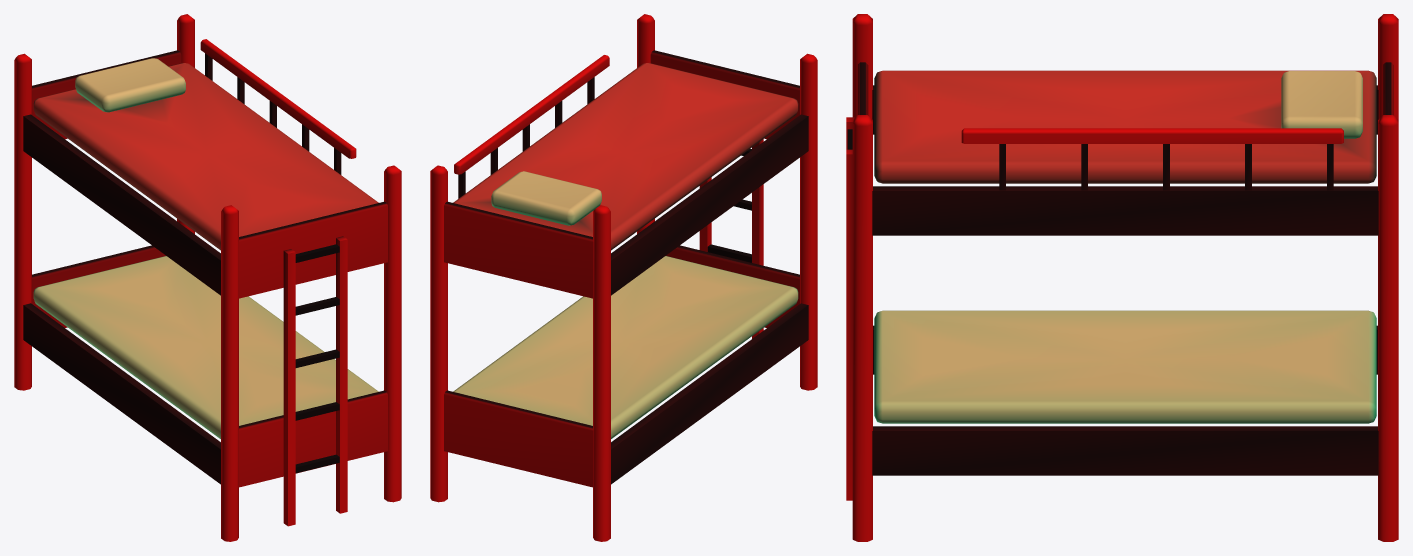
Rendered from CI_Kids_BunkBed.glb.
The picture shows the model from 3 angles, left to right: view 1: azimuth 30°, elevation 25°; view 2: azimuth 150°, elevation 25°; view 3: azimuth 270°, elevation 25°; orthographic projection. The views are drawn at different scales.
Parts seen in each view (by area): view 1: CI_Kids_BunkBed; view 2: CI_Kids_BunkBed; view 3: CI_Kids_BunkBed.
Boxes of the visible parts, x1,y1,x2,y2 form: CI_Kids_BunkBed: (14,14,401,541); CI_Kids_BunkBed: (430,14,817,541); CI_Kids_BunkBed: (846,14,1398,541).
Size of the model in its own units: 0.95 by 1.7 by 2.02.
